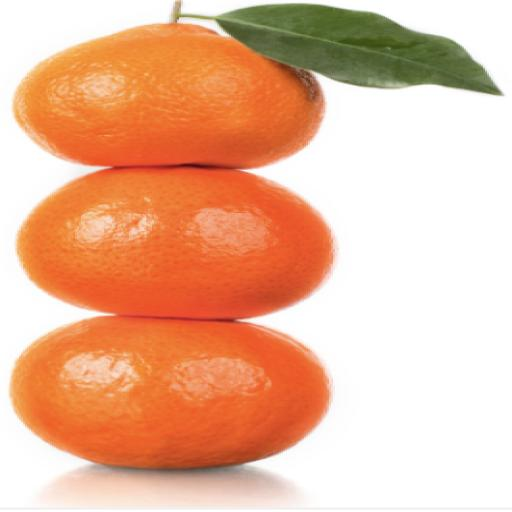orange: (18, 167, 334, 319), (12, 317, 331, 467), (14, 24, 325, 168)
